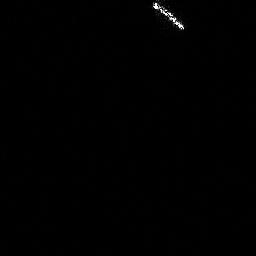ship: (150, 1, 185, 31)
